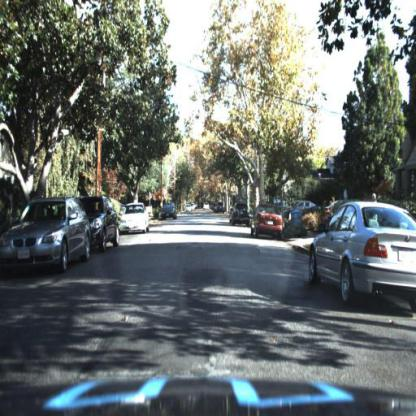car: (306, 194, 416, 310), (1, 195, 91, 269), (80, 189, 120, 252), (253, 199, 290, 236), (290, 193, 325, 218), (122, 202, 149, 232), (234, 199, 256, 225), (161, 202, 178, 222), (215, 201, 227, 217)
